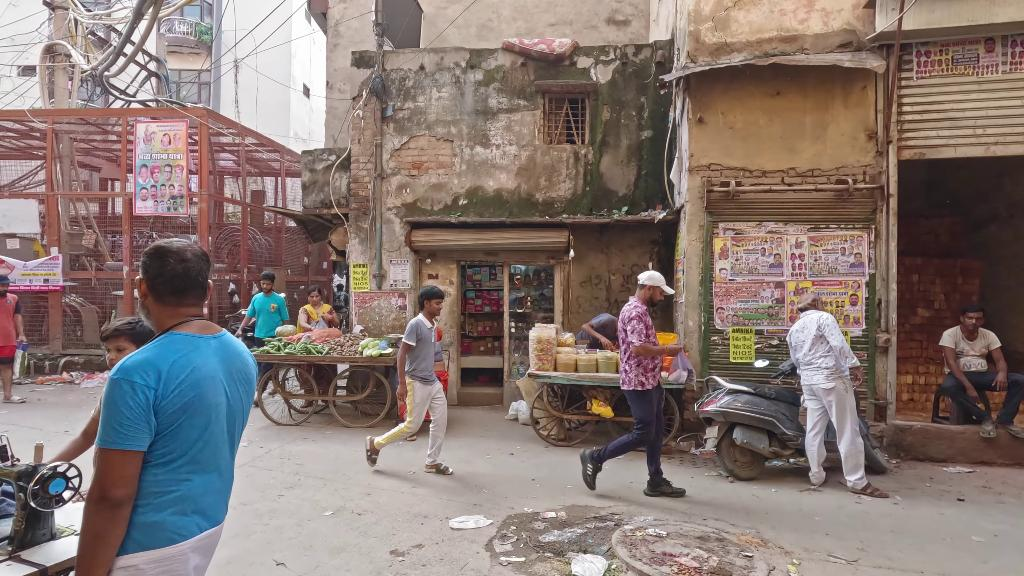garbage: (668, 344, 695, 387), (569, 551, 609, 576), (447, 511, 494, 530)
